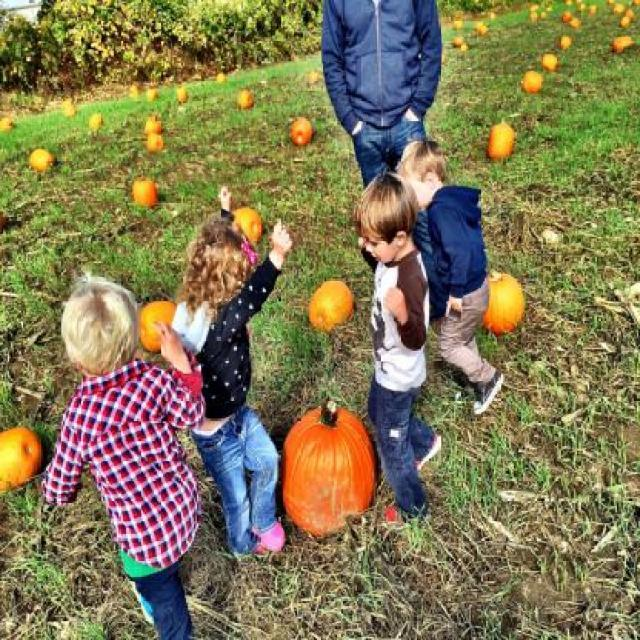Pumpkin: (277, 402, 375, 536), (0, 424, 42, 494), (484, 264, 522, 332), (306, 276, 352, 332), (137, 300, 177, 352), (230, 204, 262, 240), (487, 116, 516, 154), (129, 174, 157, 208), (30, 147, 53, 175), (520, 70, 543, 96), (294, 114, 312, 146), (143, 114, 163, 136), (147, 130, 164, 152), (236, 88, 256, 106), (542, 52, 560, 70), (614, 34, 632, 51), (556, 34, 573, 51), (89, 112, 105, 130), (0, 115, 15, 133), (175, 85, 188, 102), (305, 68, 317, 86), (144, 88, 158, 100), (215, 70, 227, 84), (127, 83, 138, 97), (452, 33, 464, 45), (528, 8, 540, 20), (60, 97, 72, 108), (64, 105, 76, 116), (562, 8, 573, 20), (453, 17, 464, 28), (569, 16, 580, 27), (536, 10, 548, 18), (622, 16, 630, 28), (478, 24, 489, 32), (589, 3, 597, 14), (624, 11, 633, 20), (490, 8, 498, 17), (461, 42, 468, 52), (441, 50, 445, 64), (629, 0, 640, 4), (476, 18, 481, 26), (545, 5, 553, 9), (607, 0, 615, 3)
